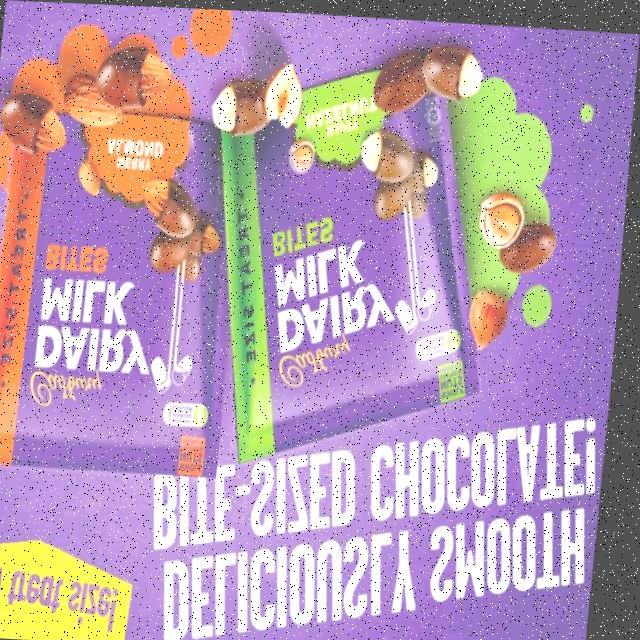cadbury: (191, 50, 519, 472), (0, 104, 255, 475)
